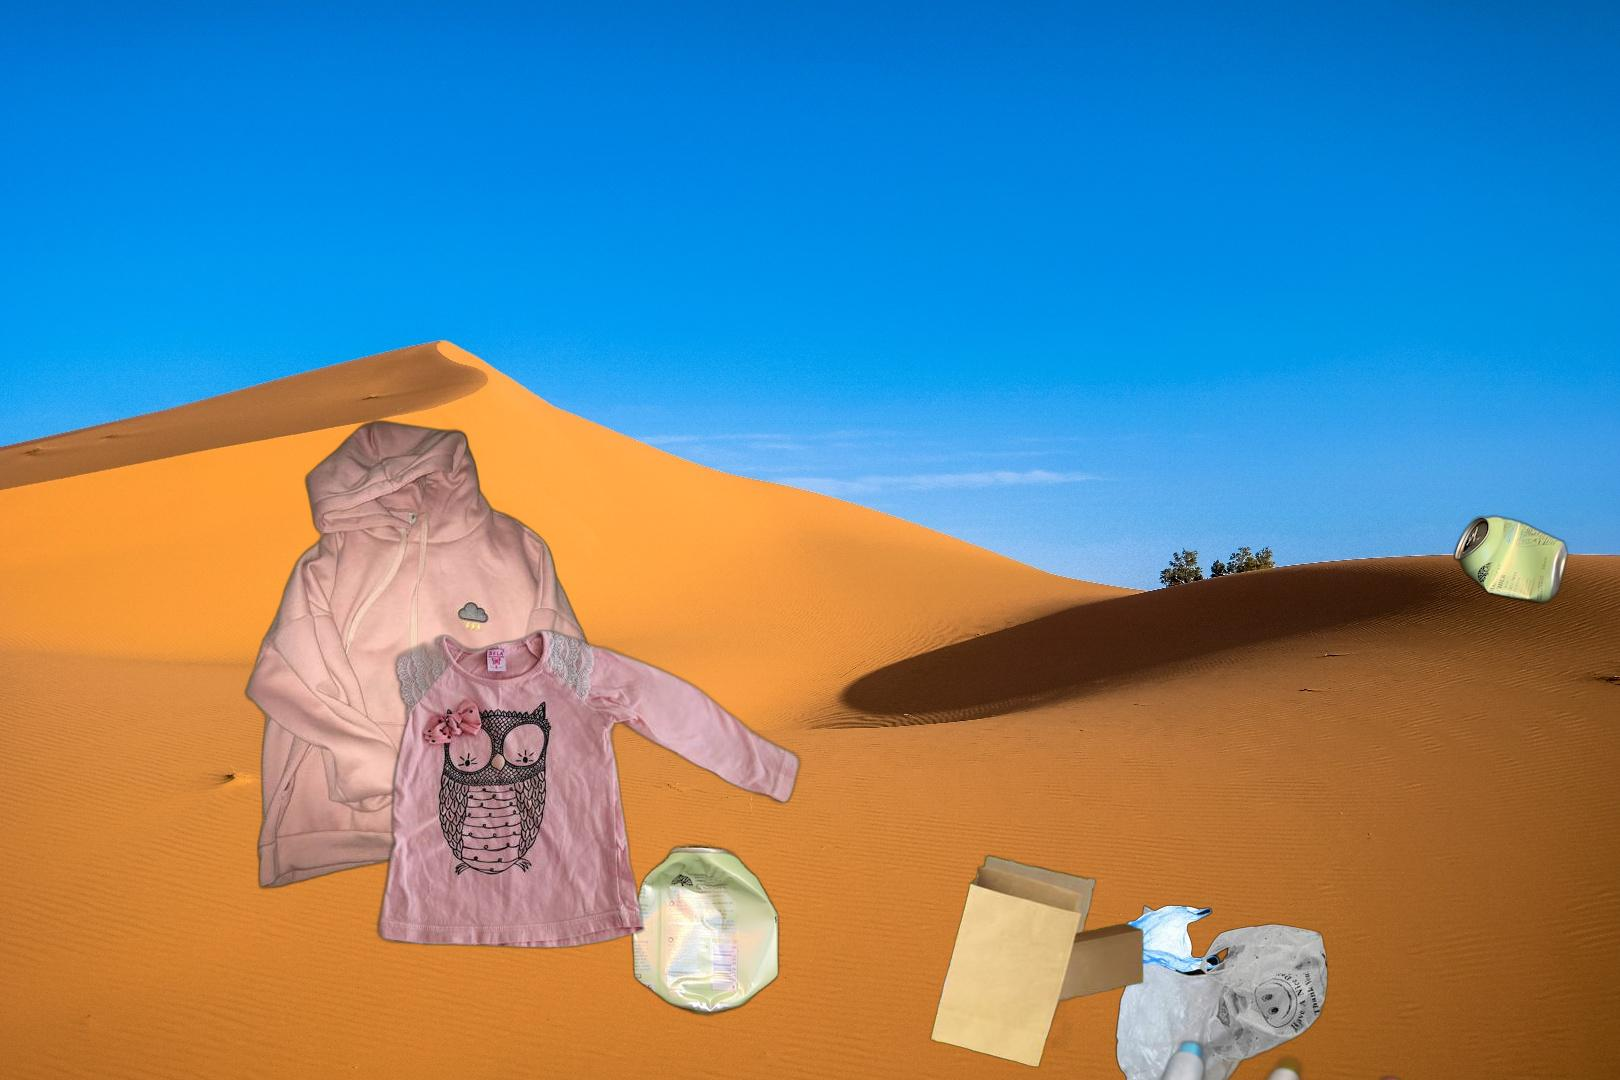clothes: (193, 626, 805, 950), (242, 416, 614, 893)
metal-cans: (627, 840, 783, 1021), (1450, 510, 1572, 609)
paper-bag: (906, 853, 1157, 1078)
penholder: (1019, 1025, 1620, 1080)
plastic-bag: (1113, 903, 1331, 1080)
